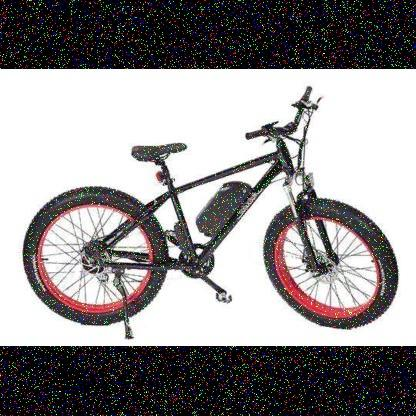Bicycle: (7, 78, 414, 337)
